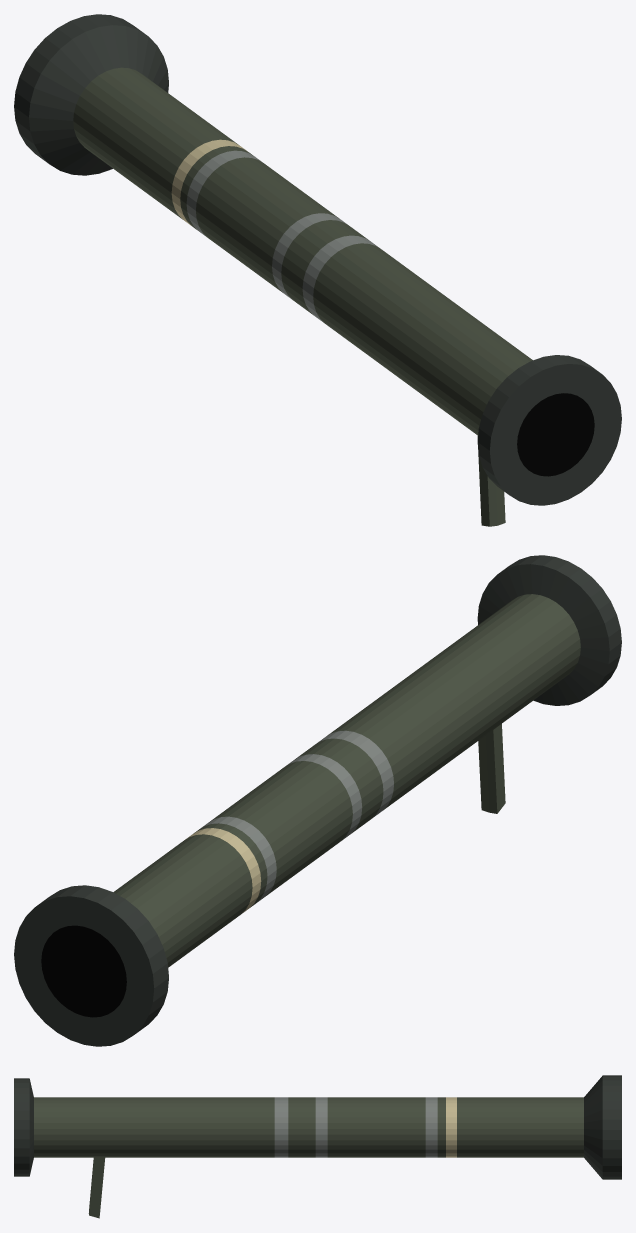
File: rpg.fbx
3 views of the same model, one above another, from view 1: azimuth 30°, elevation 25°; view 2: azimuth 150°, elevation 25°; view 3: azimuth 270°, elevation 25° (orthographic). The views are drawn at different scales.
Parts seen in each view (by area): view 1: Cylinder; view 2: Cylinder; view 3: Cylinder.
Part boxes in pixels (box(x1,y1,x2,y2)): Cylinder: box(14, 14, 621, 526); Cylinder: box(14, 555, 621, 1046); Cylinder: box(14, 1075, 621, 1218).
Bounding box in the file's own units: 76.96 × 111 × 449.
